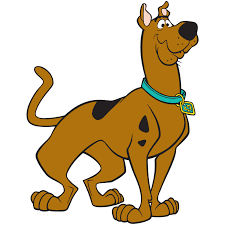scooby: (26, 1, 199, 224)
